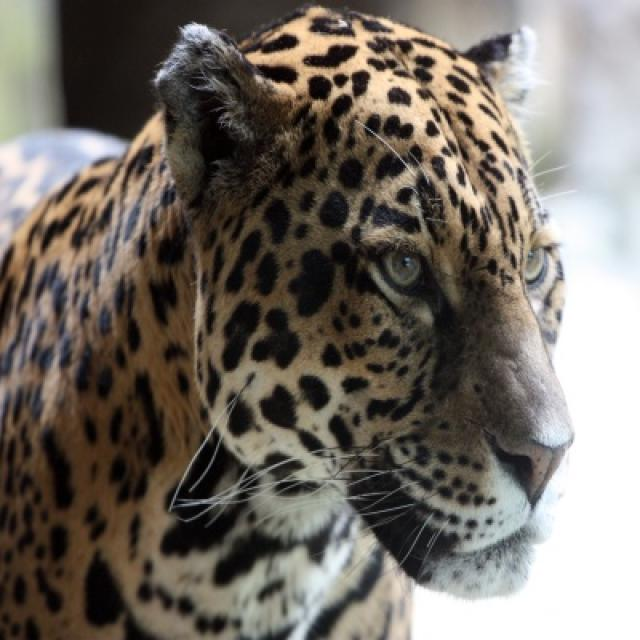Jaguar: (0, 5, 578, 638)
